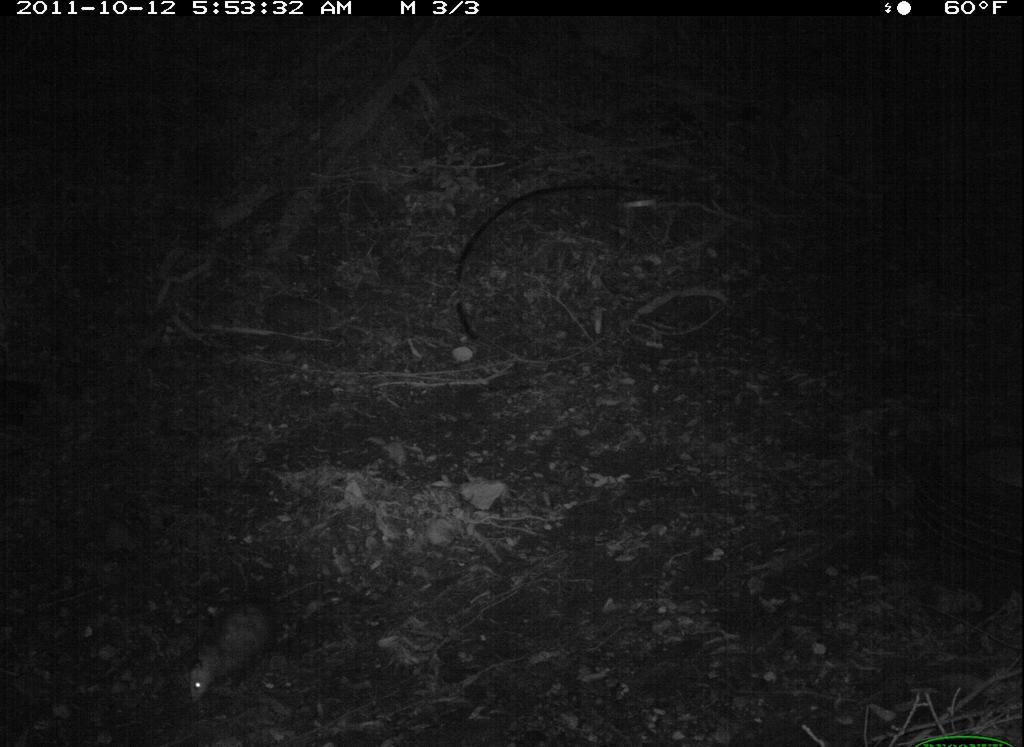opossum: (167, 582, 309, 706)
